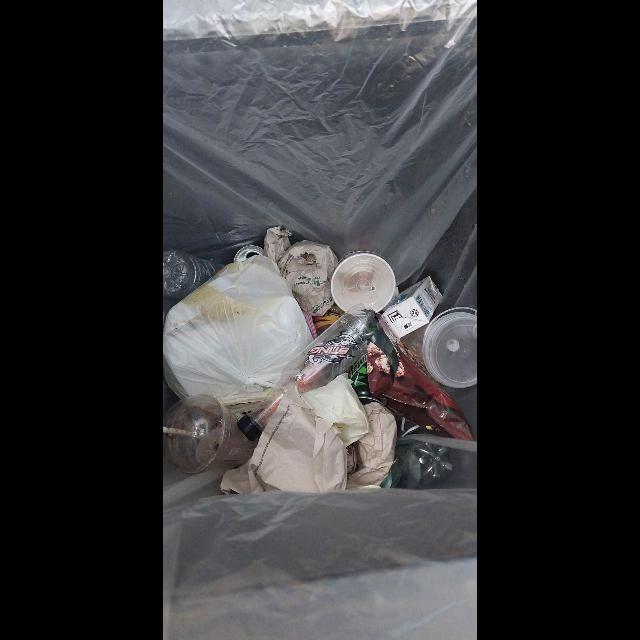food_wrapper: (365, 319, 476, 439)
glass_bottle: (237, 302, 386, 438)
paper: (222, 398, 346, 494), (285, 372, 369, 459), (264, 227, 336, 317), (342, 399, 398, 489)
plastic_bag: (163, 254, 313, 406)
plastic_bottle: (391, 441, 459, 490)
plastic_container: (169, 394, 254, 473), (410, 312, 477, 386), (330, 250, 396, 312)
